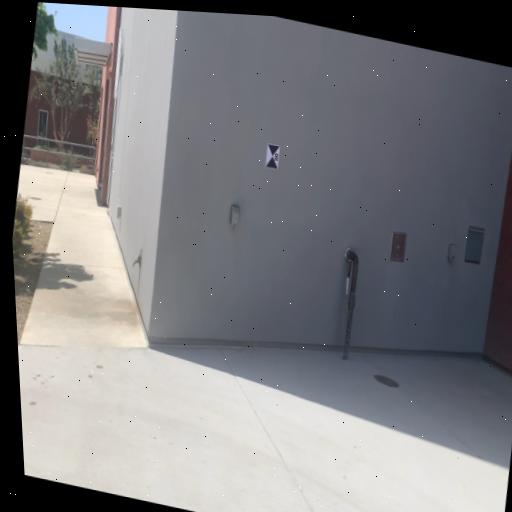target8: (263, 143, 282, 169)
